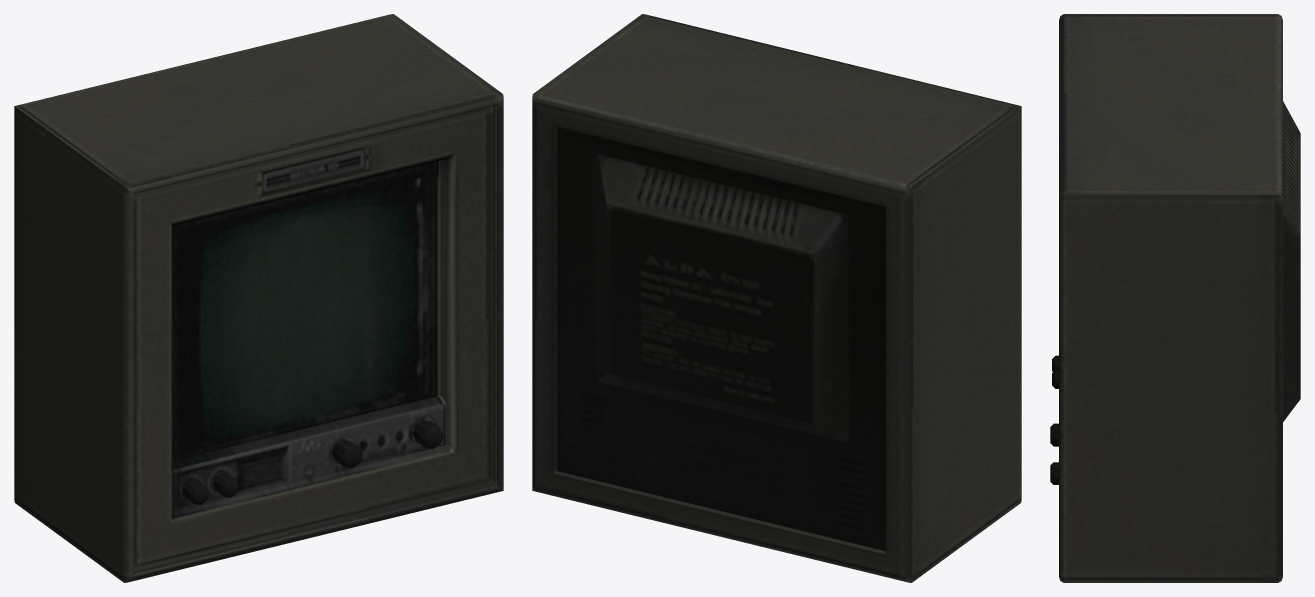
The model's file is screen_1.obj.
3 renders of one model, left to right at view 1: azimuth 30°, elevation 25°; view 2: azimuth 150°, elevation 25°; view 3: azimuth 270°, elevation 25°, orthographic. The views are drawn at different scales.
Visible parts, largest first — view 1: screen_1; view 2: screen_1; view 3: screen_1.
Part boxes in pixels (x1,y1,x2,y2): screen_1: (14,14,503,582); screen_1: (532,14,1021,582); screen_1: (1050,14,1300,582).
Bounding box in the file's own units: 0.63 × 0.63 × 0.3688.
